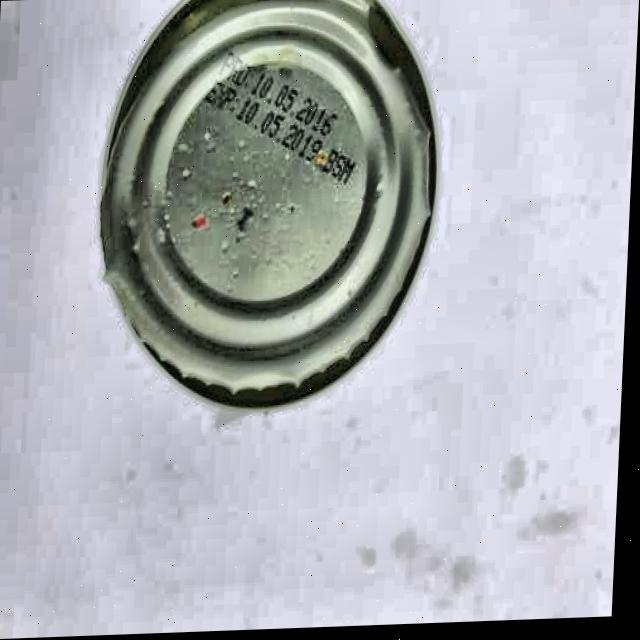metal: (83, 0, 452, 429)
